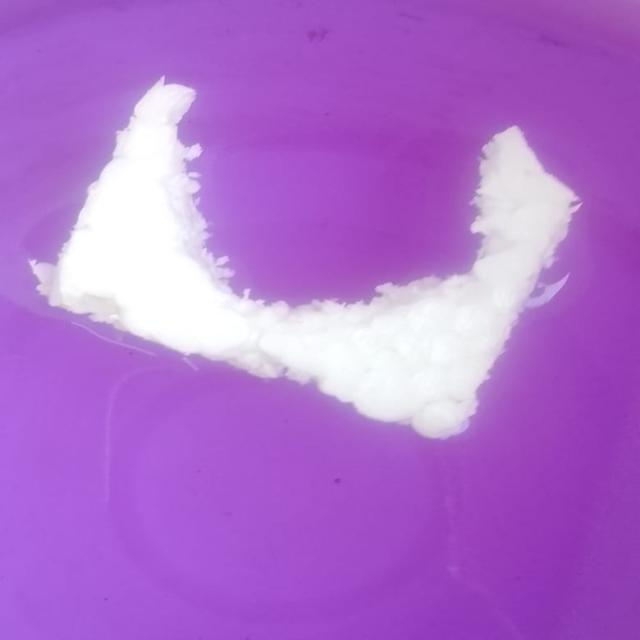thermocoal: (29, 73, 575, 449)
